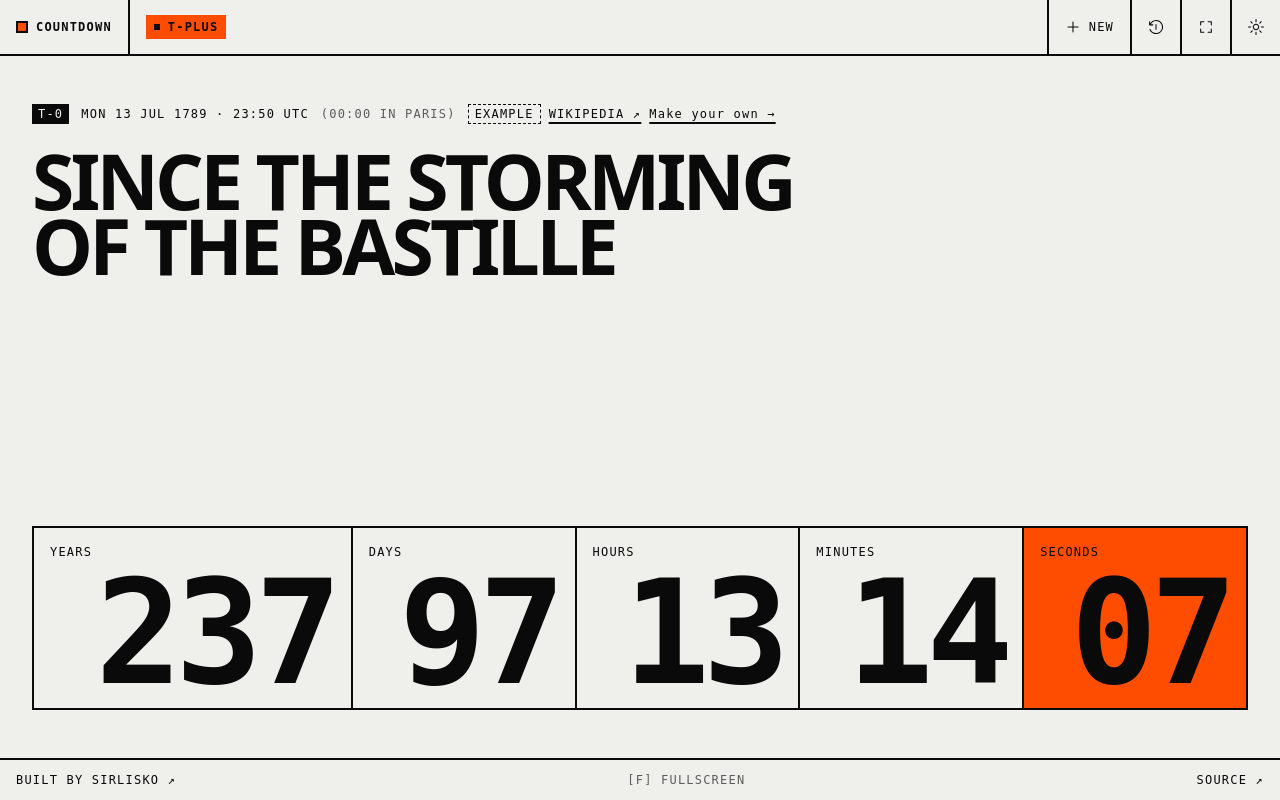
Scenario: CountdownPage › should invite visitors to make their own from a sample
Check: the text "Example" is shown, box left=468, top=104, right=541, bottom=124
Click the button "Make your own →": click(712, 114) left=649, top=106, right=776, bottom=122
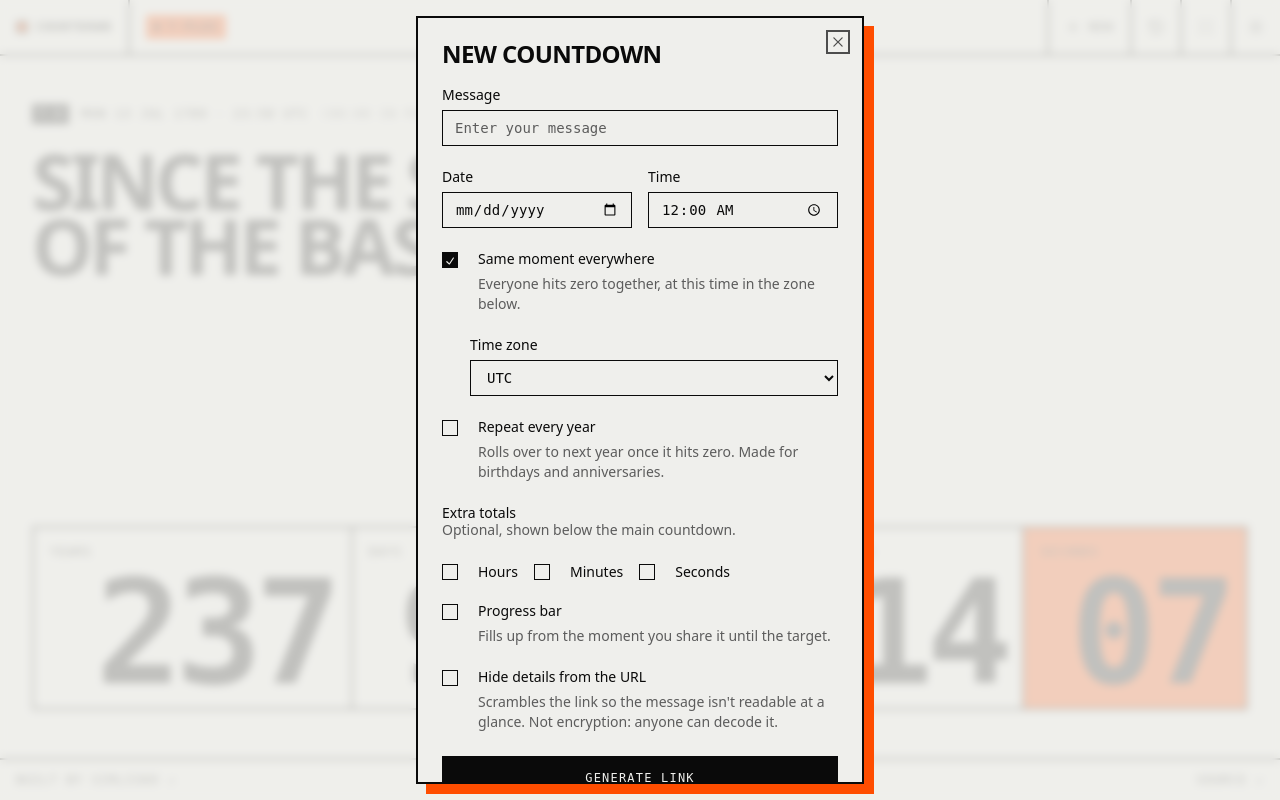
Check: the dialog "New countdown" is shown, box left=416, top=16, right=864, bottom=784
